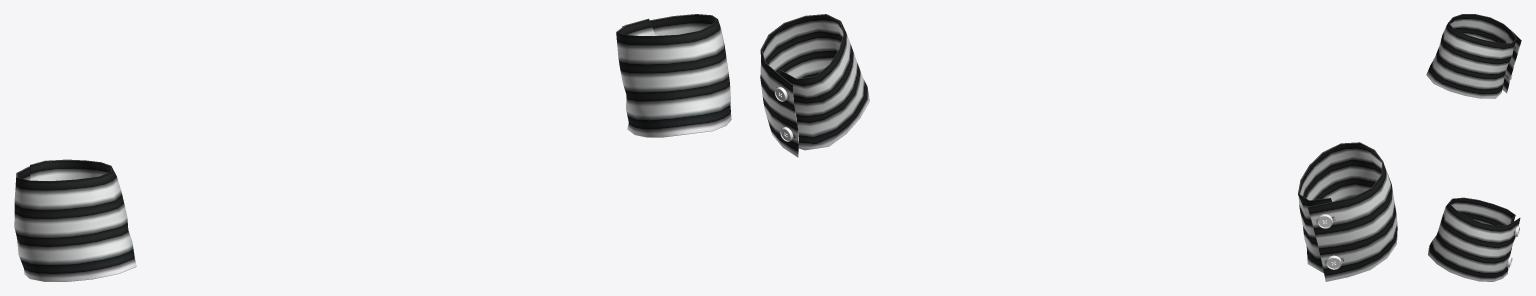
Rendered from 2_Button.glb.
3 renders of one model, left to right at view 1: azimuth 30°, elevation 25°; view 2: azimuth 150°, elevation 25°; view 3: azimuth 270°, elevation 25°, orthographic. The views are drawn at different scales.
Parts seen in each view (by area): view 1: Pattern_2052443_Node, Pattern_2052444_Node; view 2: Pattern_2052444_Node, Pattern_2052443_Node; view 3: Pattern_2052443_Node, Pattern_2052444_Node.
Boxes of the visible parts, x1=… form: Pattern_2052443_Node: x1=14, y1=159, x2=136, y2=281; Pattern_2052444_Node: x1=616, y1=14, x2=731, y2=137; Pattern_2052444_Node: x1=760, y1=14, x2=869, y2=157; Pattern_2052443_Node: x1=1298, y1=142, x2=1397, y2=281; Pattern_2052443_Node: x1=1426, y1=14, x2=1521, y2=98; Pattern_2052444_Node: x1=1428, y1=197, x2=1520, y2=281.
Size of the model in its own units: 60.08 by 10.27 by 11.6.
Materials: 14 (6 with a texture image).
